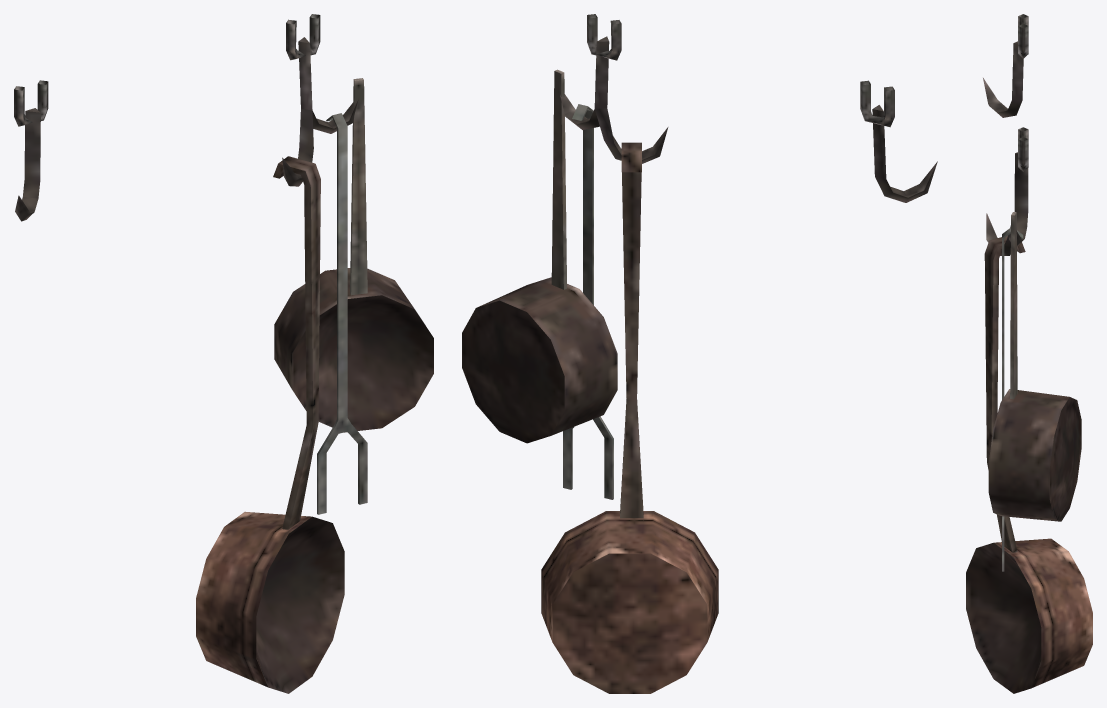
Rendered from Oven.fbx.
The picture shows the model from 3 angles, left to right: view 1: azimuth 30°, elevation 25°; view 2: azimuth 150°, elevation 25°; view 3: azimuth 270°, elevation 25°; orthographic projection. The views are drawn at different scales.
Parts seen in each view (by area): view 1: LV_Common_Object_B_Oven01_SM_NWCJOE; view 2: LV_Common_Object_B_Oven01_SM_NWCJOE; view 3: LV_Common_Object_B_Oven01_SM_NWCJOE.
Boxes of the visible parts, box(x1,y1,x2,y2) form: LV_Common_Object_B_Oven01_SM_NWCJOE: box(14, 14, 433, 693); LV_Common_Object_B_Oven01_SM_NWCJOE: box(462, 14, 937, 693); LV_Common_Object_B_Oven01_SM_NWCJOE: box(966, 14, 1092, 693).
Size of the model in its own units: 17.91 by 25.79 by 5.32.
